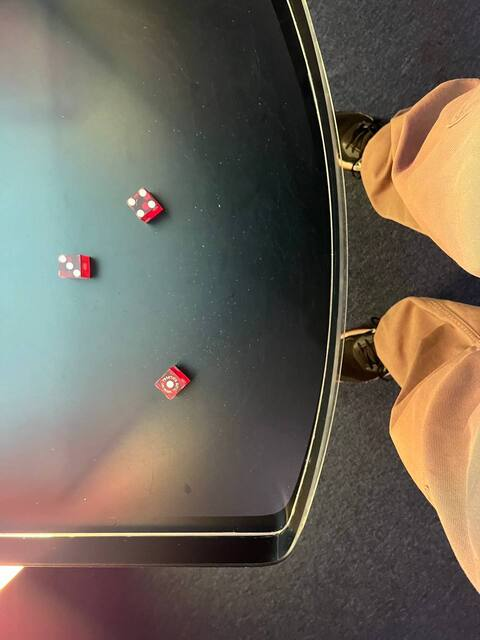four: (122, 185, 161, 220)
one: (154, 368, 187, 399)
three: (54, 251, 85, 281)
